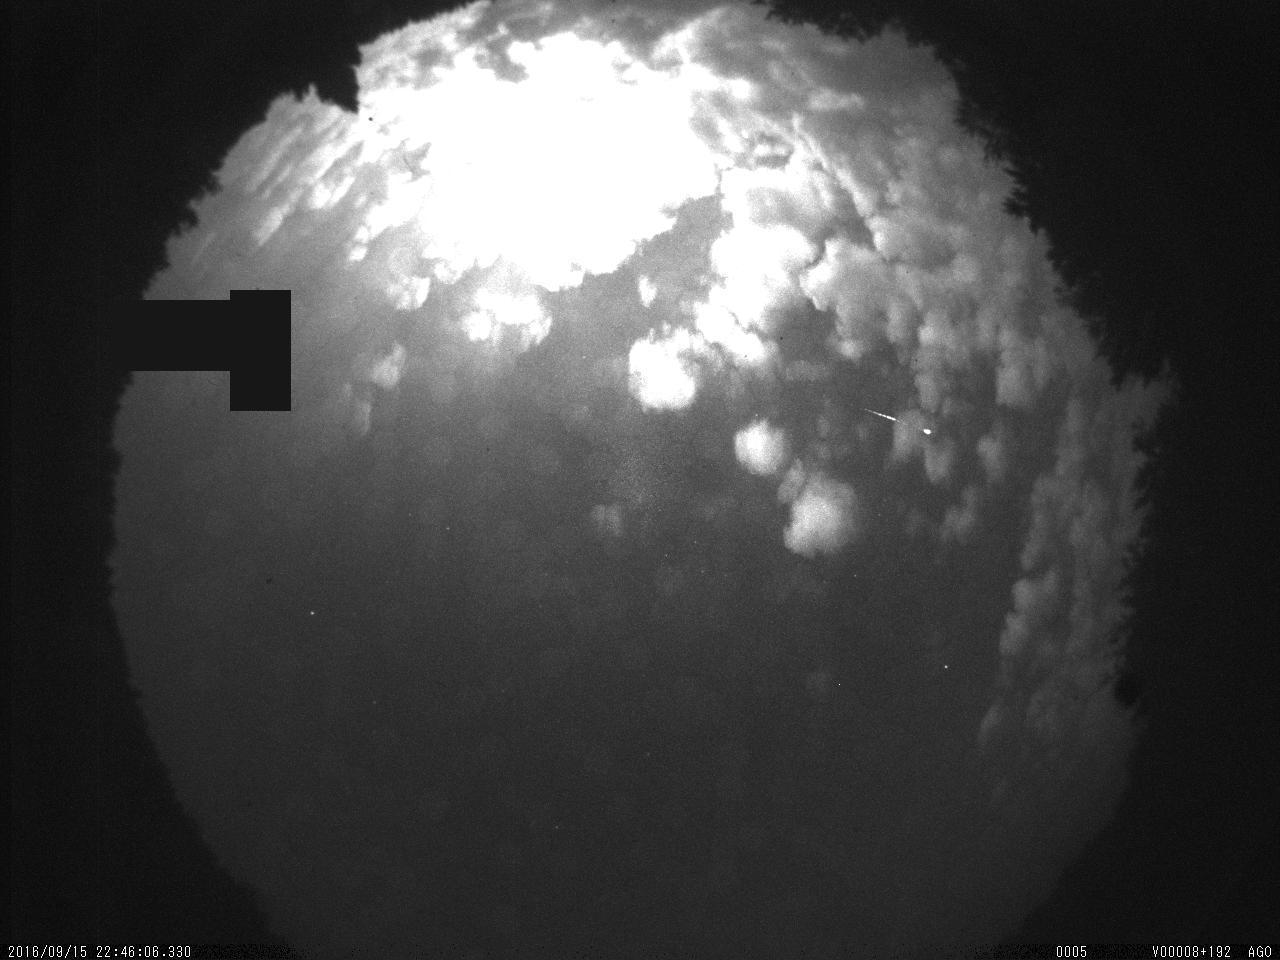meteor: (851, 397, 946, 453)
